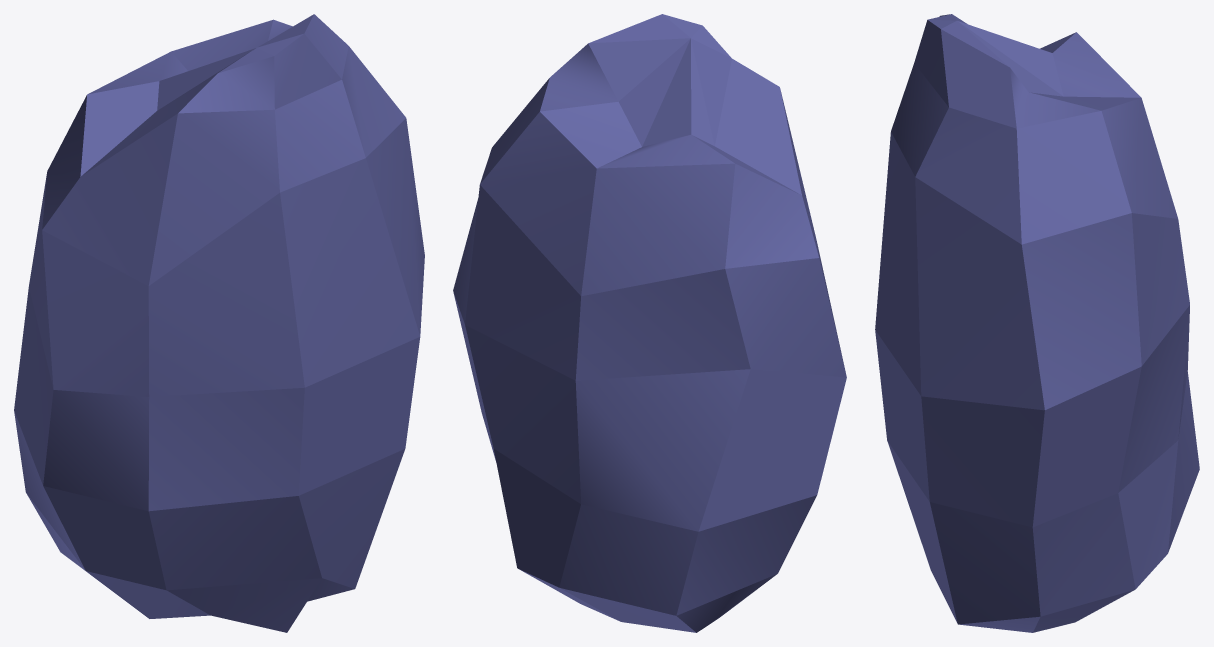
Rendered from Piedra2.fbx.
3 renders of one model, left to right at view 1: azimuth 30°, elevation 25°; view 2: azimuth 150°, elevation 25°; view 3: azimuth 270°, elevation 25°, orthographic. The views are drawn at different scales.
Parts seen in each view (by area): view 1: polySurface4449; view 2: polySurface4449; view 3: polySurface4449.
Part boxes in pixels (<box>): polySurface4449: <box>14,14,424,632</box>; polySurface4449: <box>453,14,846,632</box>; polySurface4449: <box>875,14,1199,632</box>.
Size of the model in its own units: 69.66 by 101 by 49.94.
